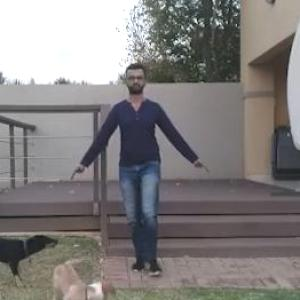land: (96, 78, 190, 253)
